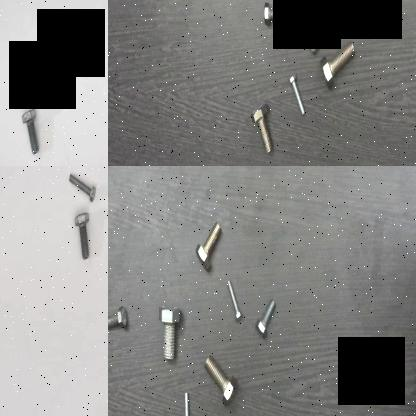Bolts: (203, 352, 240, 414), (320, 42, 356, 92), (194, 217, 224, 277), (158, 302, 182, 366), (250, 101, 274, 157), (254, 290, 278, 342), (304, 14, 332, 58), (224, 273, 244, 329), (21, 105, 40, 162), (66, 174, 98, 204), (261, 0, 294, 29), (74, 209, 91, 262), (288, 74, 308, 116), (108, 302, 130, 338), (178, 388, 192, 416)
